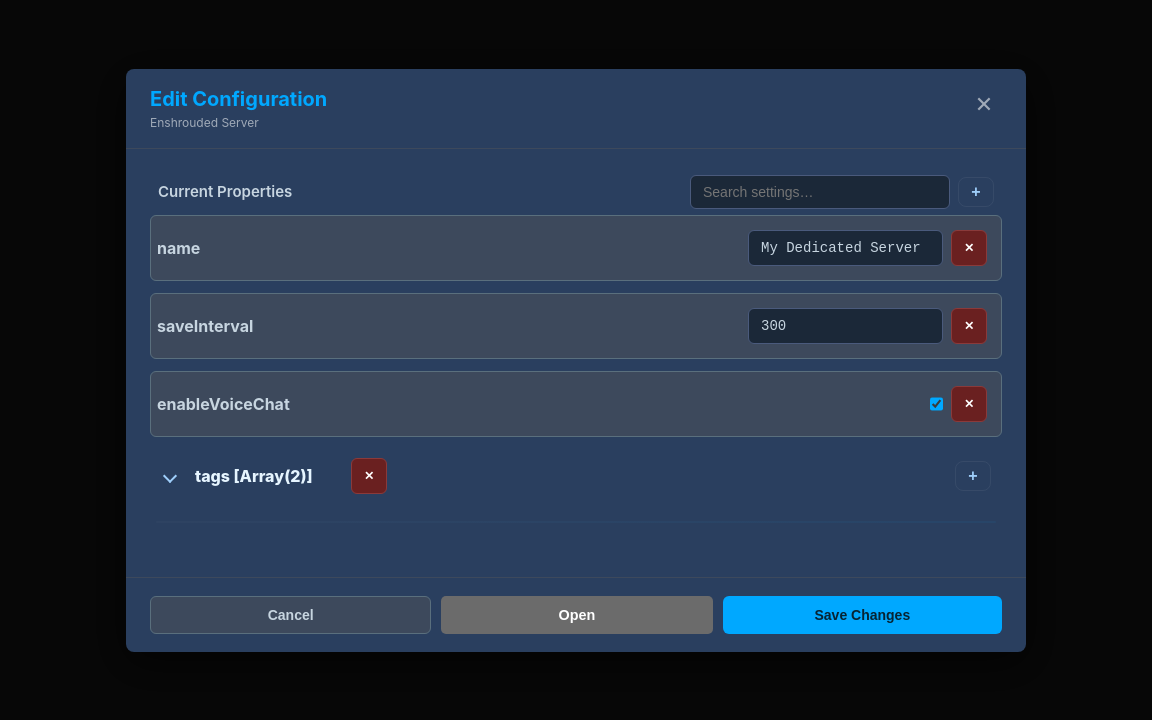
Test: ConfigEditor › shows an empty state when no settings match the query
Type "zzzz-no-match" into the search field labelled "Search settings" at (820, 192), box [690,174,950,208]
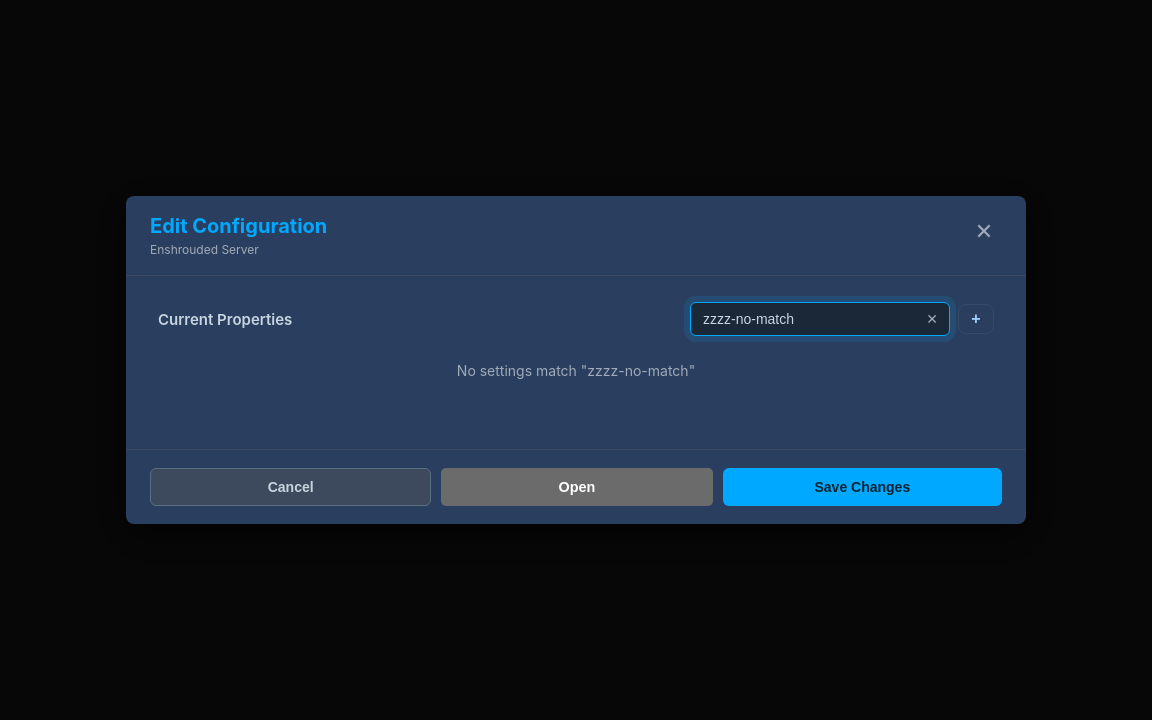
expect the text "No settings match \"zzzz-no-match\"" is shown: met, box [457,362,695,379]
